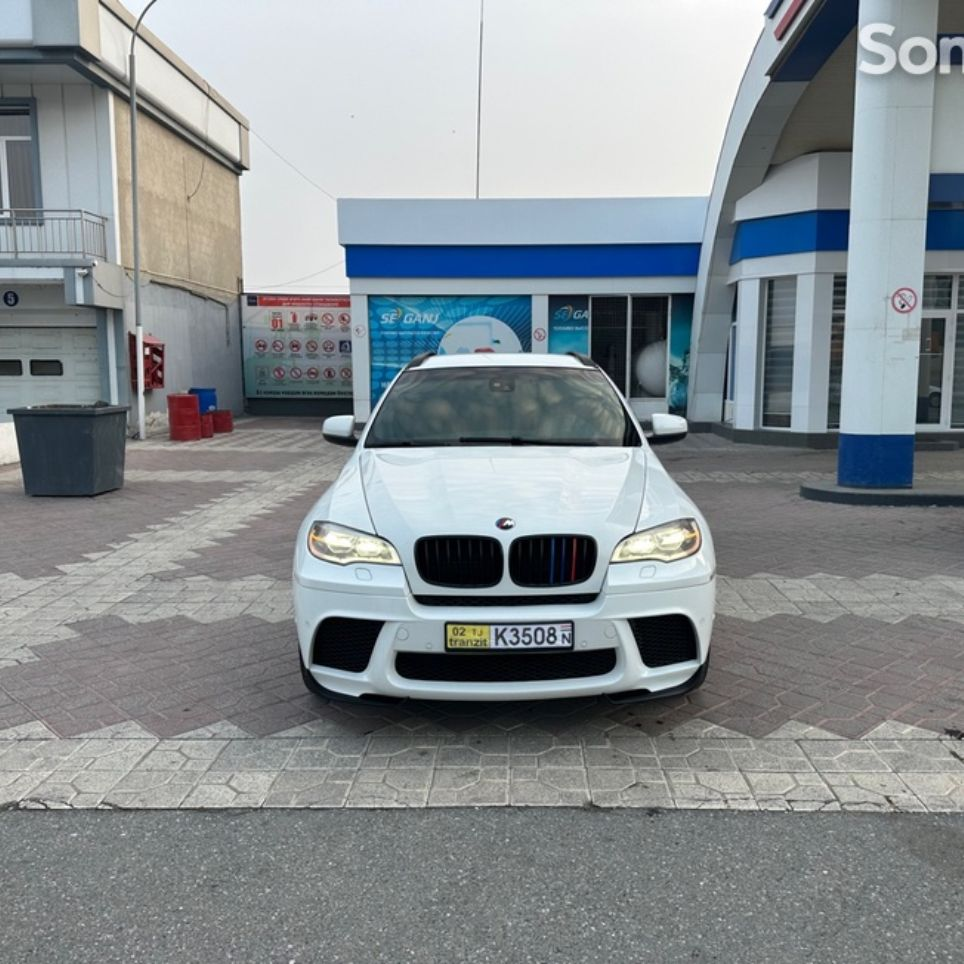license plate: (445, 621, 575, 651)
truck: (288, 350, 728, 729)
